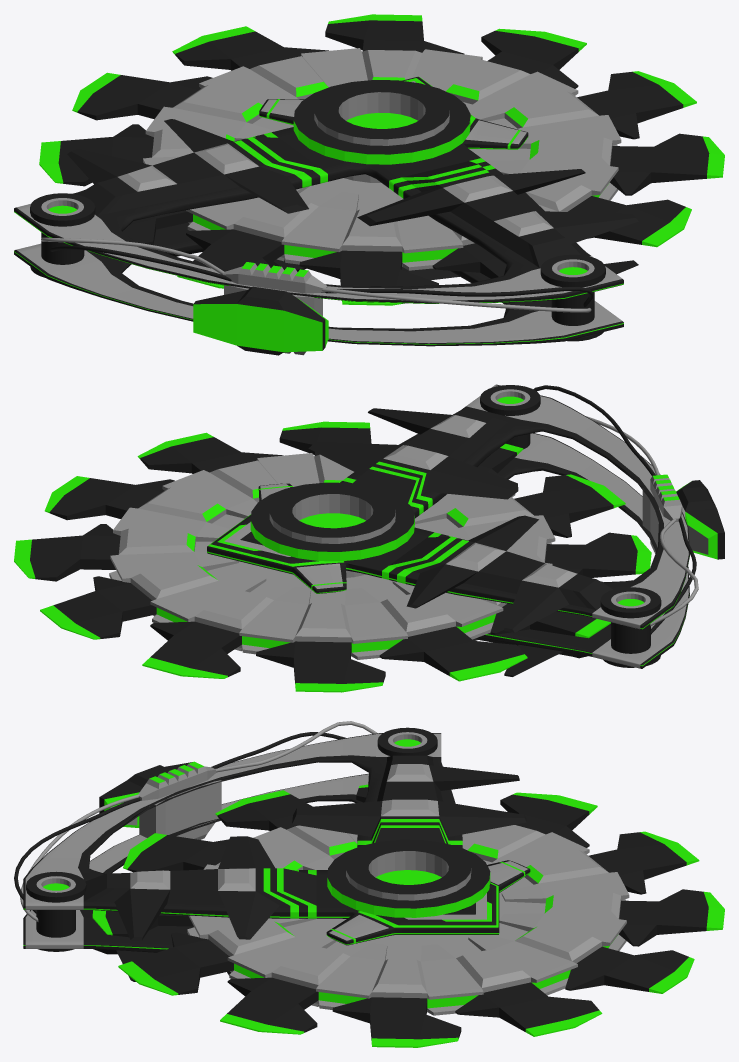
The model's file is Shredder.fbx.
The picture shows the model from 3 angles, top to bottom: view 1: azimuth 30°, elevation 25°; view 2: azimuth 150°, elevation 25°; view 3: azimuth 270°, elevation 25°; orthographic projection. The views are drawn at different scales.
Parts seen in each view (by area): view 1: Object001, Cylinder001; view 2: Object001, Cylinder001; view 3: Object001, Cylinder001.
Part boxes in pixels (x1=…): Object001: x1=39, y1=14, x2=724, y2=305; Cylinder001: x1=14, y1=76, x2=638, y2=355; Object001: x1=14, y1=421, x2=651, y2=692; Cylinder001: x1=207, y1=384, x2=724, y2=676; Object001: x1=92, y1=784, x2=724, y2=1047; Cylinder001: x1=14, y1=721, x2=530, y2=981.
Bounding box in the file's own units: 107 × 15.26 × 108.
